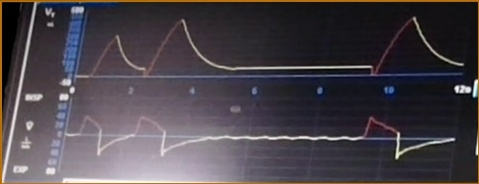Flow: (71, 111, 453, 168)
Leakage Volume: (88, 13, 465, 82)
